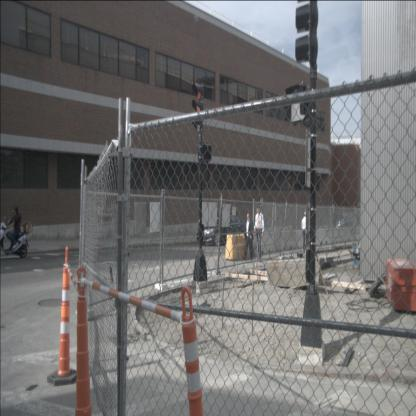barrier: (225, 234, 251, 262), (249, 232, 276, 257), (275, 228, 296, 252), (296, 230, 316, 248), (315, 229, 332, 247), (354, 226, 370, 243), (332, 228, 347, 244), (344, 226, 356, 243)
cone: (173, 286, 212, 416), (68, 268, 100, 416), (47, 246, 77, 386)
